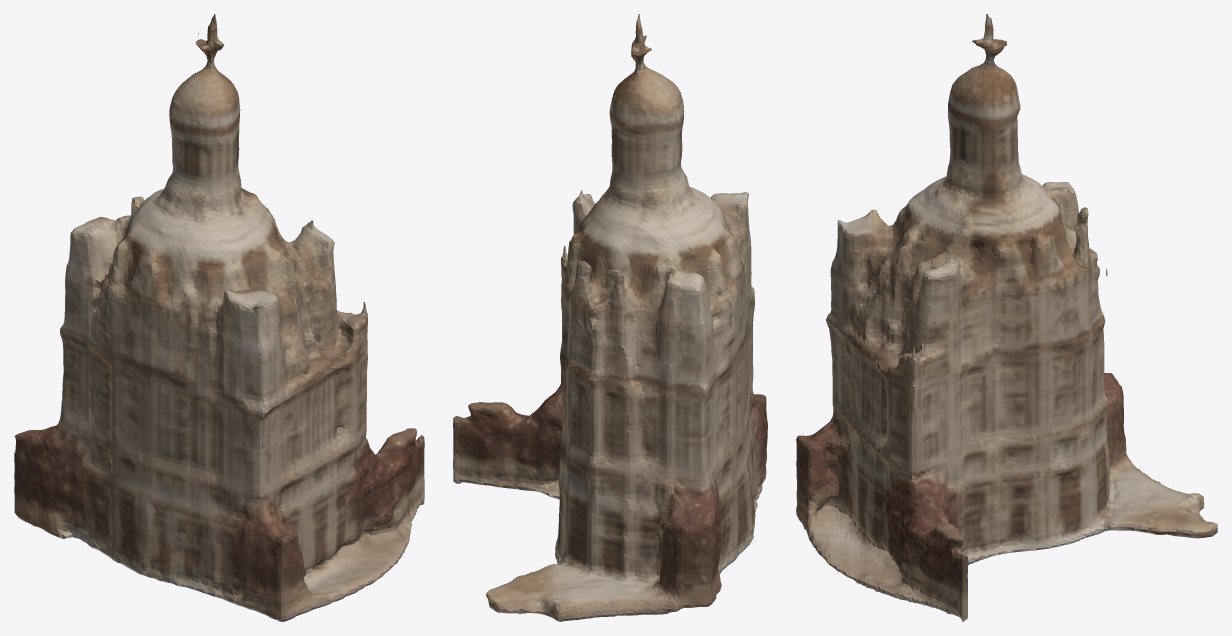
The model's file is barcelona.glb.
3 renders of one model, left to right at view 1: azimuth 30°, elevation 25°; view 2: azimuth 150°, elevation 25°; view 3: azimuth 270°, elevation 25°, orthographic. The views are drawn at different scales.
Visible parts, largest first — view 1: world; view 2: world; view 3: world.
Boxes of the visible parts, x1,y1,x2,y2 form: world: (14, 14, 424, 621); world: (453, 14, 767, 621); world: (796, 14, 1217, 621).
Size of the model in its own units: 1.28 by 1.95 by 1.44.
